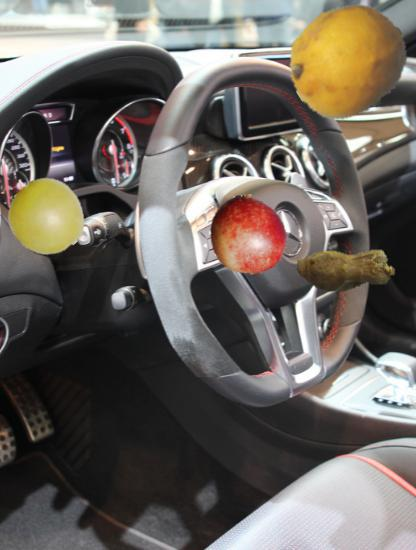Ginger: (295, 220, 397, 322)
Grape: (9, 180, 85, 256)
Lemon: (288, 1, 410, 123)
Nectarine: (208, 195, 288, 275)
